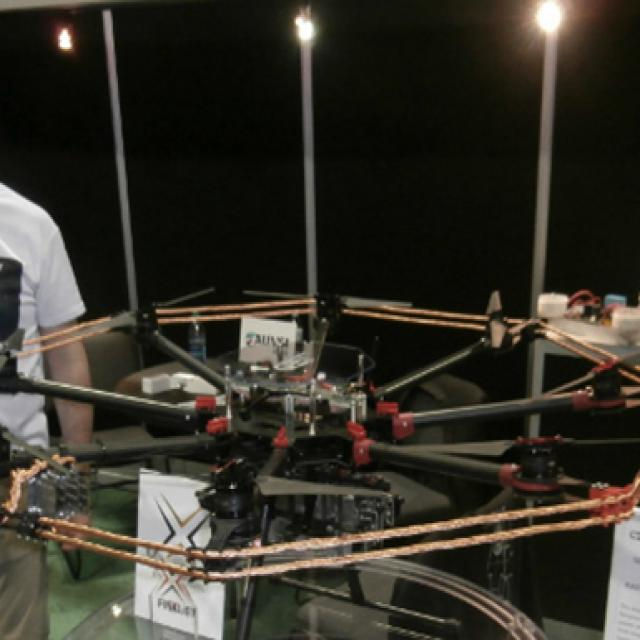drone: (0, 249, 640, 574)
